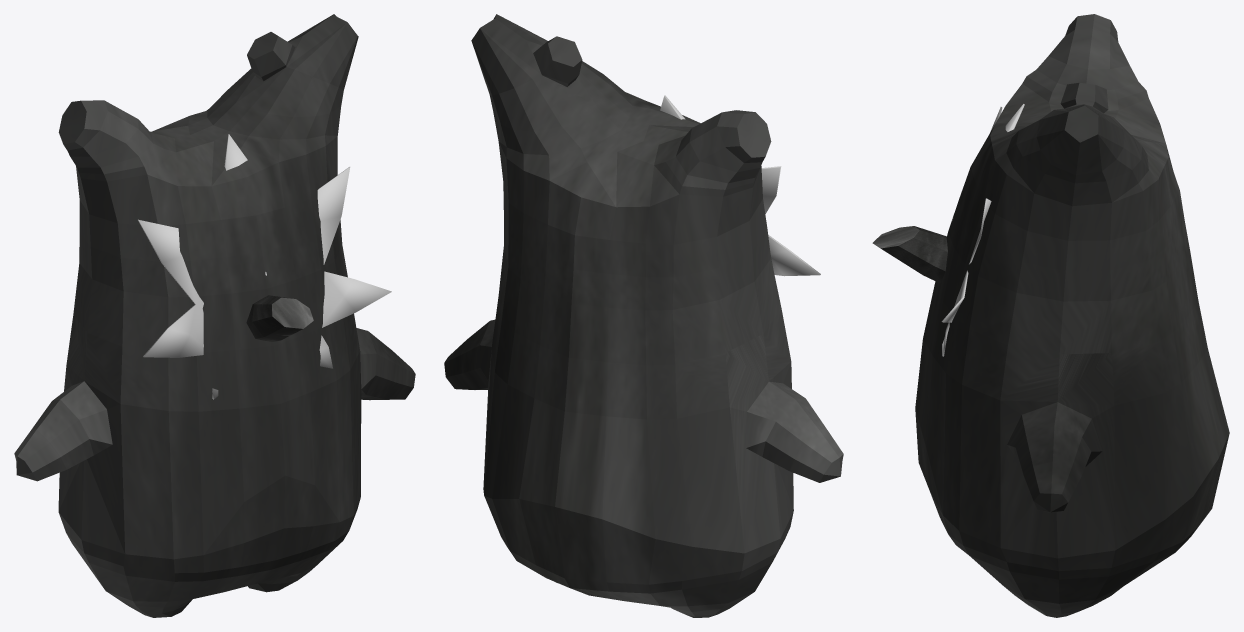
File: frame_0084.obj
3 views of the same model, side by side, from view 1: azimuth 30°, elevation 25°; view 2: azimuth 150°, elevation 25°; view 3: azimuth 270°, elevation 25° (orthographic). The views are drawn at different scales.
Visible parts, largest first — view 1: korok, leaf, nose; view 2: korok, leaf; view 3: korok, nose, leaf.
Boxes of the visible parts, x1,y1,x2,y2 form: korok: [14, 14, 415, 617]; leaf: [138, 134, 391, 399]; nose: [246, 295, 313, 341]; korok: [444, 14, 843, 617]; leaf: [660, 95, 820, 276]; korok: [915, 14, 1229, 617]; nose: [872, 226, 947, 283]; leaf: [941, 104, 1024, 356].
Size of the model in its own units: 1.67 by 2.24 by 1.33.
